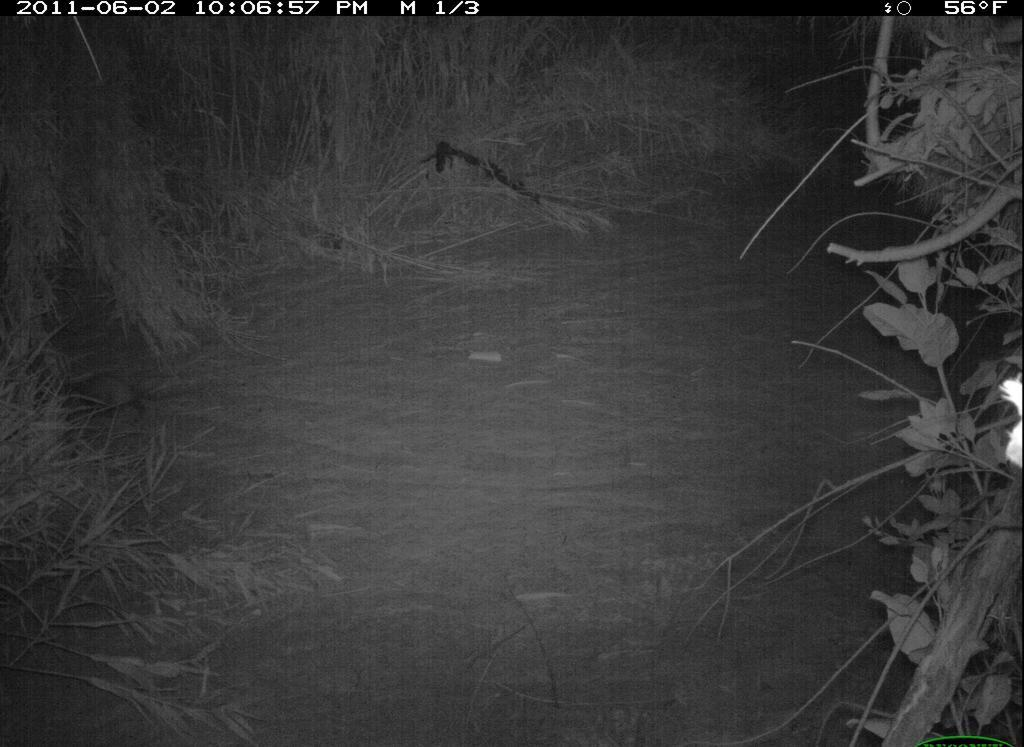opossum: (54, 366, 204, 430)
